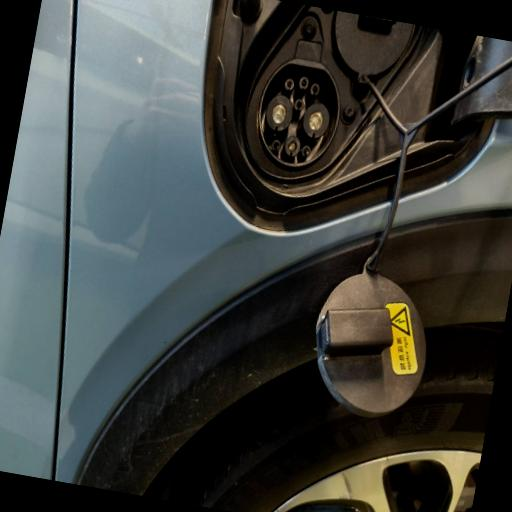DC_hole: (298, 100, 332, 142), (262, 93, 296, 133)
PE: (282, 135, 300, 157)
charging_port: (246, 52, 349, 174)
